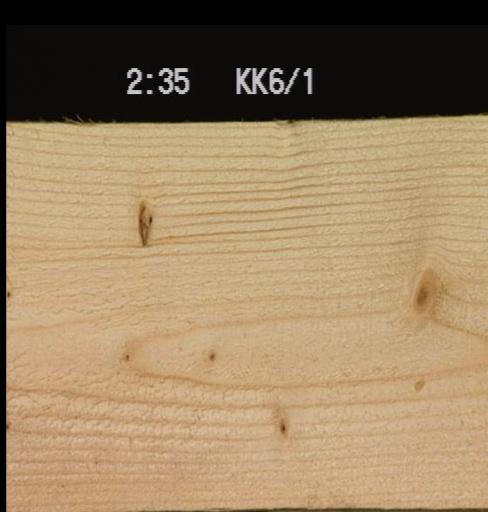small_knot: (269, 410, 298, 439), (200, 347, 222, 364), (6, 414, 14, 433), (6, 282, 14, 300)
sound_knot: (401, 268, 448, 315)
